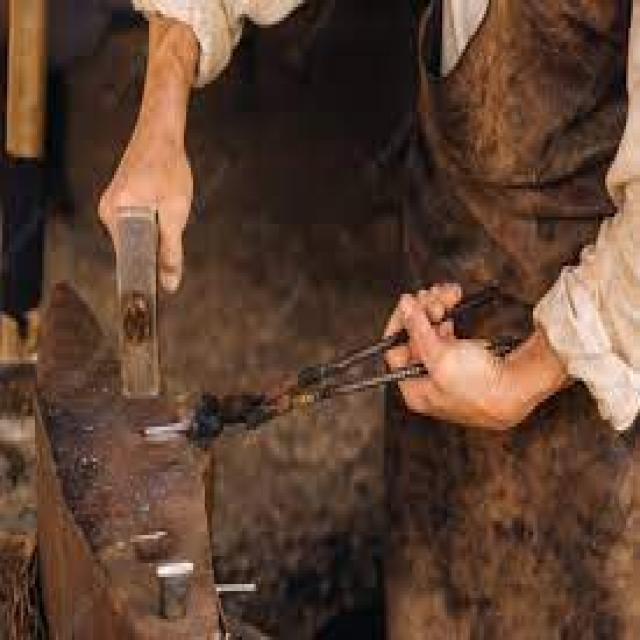hammer: (102, 190, 166, 422)
